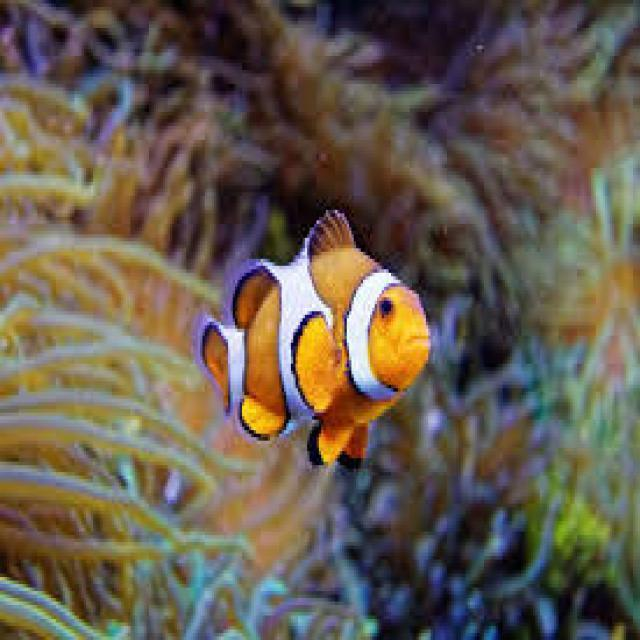ClownFish: (193, 209, 436, 470)
